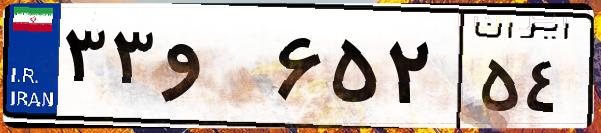2: (385, 28, 445, 110)
3: (57, 26, 110, 100), (110, 28, 158, 98)
4: (525, 38, 570, 115)
5: (330, 28, 385, 110), (475, 38, 525, 113)
6: (270, 28, 330, 110)
و: (158, 20, 270, 120)
